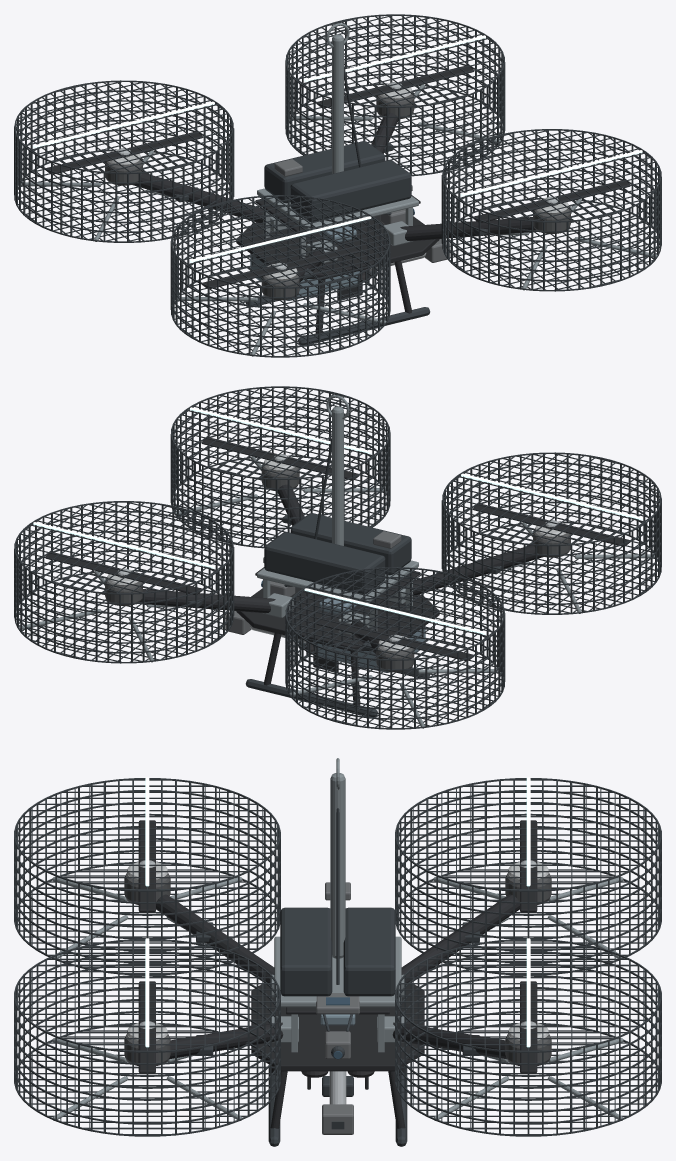
File: robot-601-spec2026v3.glb
3 views of the same model, one above another, from view 1: azimuth 30°, elevation 25°; view 2: azimuth 150°, elevation 25°; view 3: azimuth 270°, elevation 25° (orthographic). The views are drawn at different scales.
Parts seen in each view (by area): view 1: Chassis_RobotMatteGraphite, Chassis_CarbonPlate, Chassis_RobotMatteAluminum, Chassis_TeamGlow, Chassis_MotorHousing, PropellerBlade, PropellerBlade.001, PropellerBlade.002, PropellerBlade.003, Chassis_TeamPrimaryShell, Chassis_MotorCapSilver; view 2: Chassis_RobotMatteGraphite, Chassis_CarbonPlate, Chassis_RobotMatteAluminum, Chassis_TeamGlow, Chassis_MotorHousing, PropellerBlade.001, PropellerBlade, PropellerBlade.003, PropellerBlade.002, Chassis_TeamPrimaryShell, Chassis_MotorCapSilver; view 3: Chassis_RobotMatteGraphite, Chassis_CarbonPlate, Chassis_RobotMatteAluminum, Chassis_MotorHousing, Chassis_TeamGlow, Chassis_MotorCapSilver, PropellerBlade.002, PropellerBlade.003, PropellerBlade, PropellerBlade.001, Chassis_RefereeModuleGray, AirMuzzleSpeedModule (+2 smaller).
Boxes of the visible parts, box(x1,y1,x2,y2) form: Chassis_RobotMatteGraphite: box(14, 14, 661, 357); Chassis_CarbonPlate: box(132, 112, 535, 334); Chassis_RobotMatteAluminum: box(21, 23, 657, 356); Chassis_TeamGlow: box(33, 35, 642, 262); Chassis_MotorHousing: box(105, 92, 570, 300); PropellerBlade: box(202, 246, 359, 288); PropellerBlade.001: box(45, 131, 202, 174); PropellerBlade.002: box(473, 180, 630, 222); PropellerBlade.003: box(317, 65, 473, 108); Chassis_TeamPrimaryShell: box(250, 225, 359, 300); Chassis_MotorCapSilver: box(108, 83, 568, 280); Chassis_RobotMatteGraphite: box(14, 386, 661, 729); Chassis_CarbonPlate: box(140, 484, 543, 706); Chassis_RobotMatteAluminum: box(18, 395, 654, 728); Chassis_TeamGlow: box(33, 407, 642, 634); Chassis_MotorHousing: box(105, 464, 570, 672); PropellerBlade.001: box(316, 618, 473, 660); PropellerBlade: box(473, 503, 630, 546); PropellerBlade.003: box(45, 552, 202, 594); PropellerBlade.002: box(202, 437, 358, 480); Chassis_TeamPrimaryShell: box(316, 597, 425, 672); Chassis_MotorCapSilver: box(107, 455, 567, 652); Chassis_RobotMatteGraphite: box(14, 778, 661, 1146); Chassis_CarbonPlate: box(156, 894, 519, 1128); Chassis_RobotMatteAluminum: box(52, 758, 623, 1120); Chassis_MotorHousing: box(124, 873, 551, 1065); Chassis_TeamGlow: box(145, 777, 530, 1047); Chassis_MotorCapSilver: box(127, 862, 548, 1042); PropellerBlade.002: box(138, 981, 155, 1073); PropellerBlade.003: box(520, 981, 537, 1073); PropellerBlade: box(138, 820, 155, 912); PropellerBlade.001: box(520, 820, 537, 912); Chassis_RefereeModuleGray: box(316, 882, 359, 1014); AirMuzzleSpeedModule: box(322, 1104, 353, 1134).
Size of the model in its own units: 1.12 by 0.67 by 1.12.
